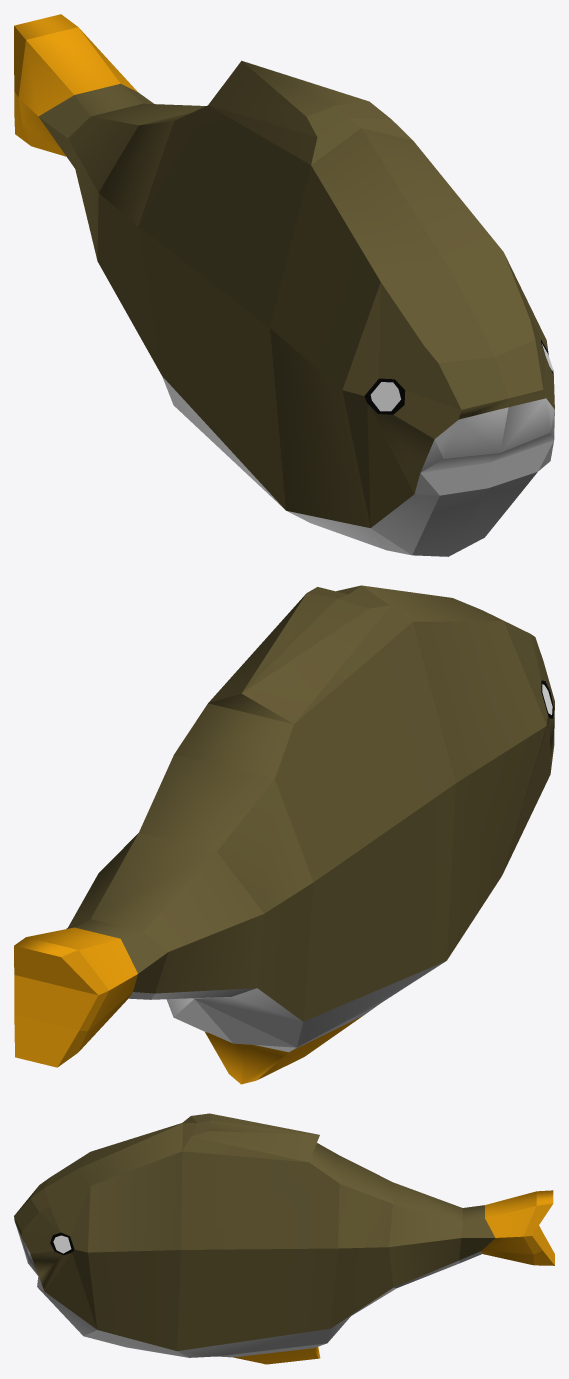
Rendered from Fish-1f.fbx.
The picture shows the model from 3 angles, top to bottom: view 1: azimuth 30°, elevation 25°; view 2: azimuth 150°, elevation 25°; view 3: azimuth 270°, elevation 25°; orthographic projection. The views are drawn at different scales.
Parts seen in each view (by area): view 1: Fish-1; view 2: Fish-1; view 3: Fish-1.
Boxes of the visible parts, x1=… form: Fish-1: x1=14, y1=14, x2=554, y2=556; Fish-1: x1=14, y1=585, x2=554, y2=1084; Fish-1: x1=14, y1=1113, x2=554, y2=1364.
Size of the model in its own units: 0.2252 by 0.4485 by 0.9027.
